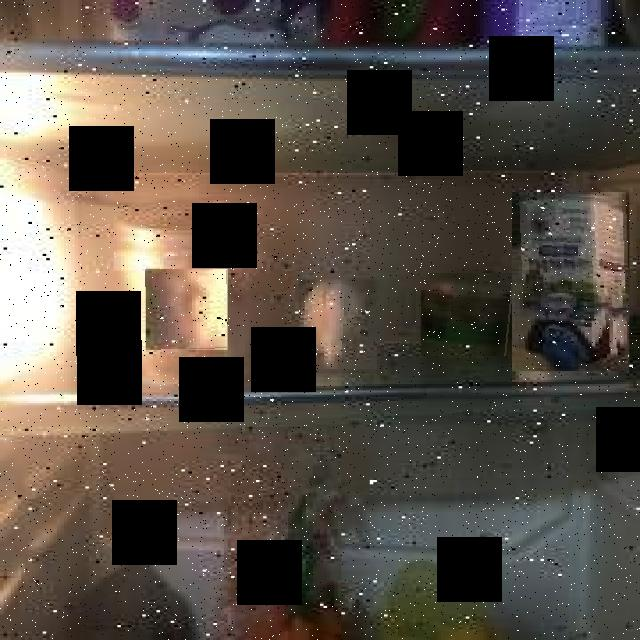garlic: (299, 280, 377, 369), (146, 270, 228, 351)
guacamole: (421, 273, 514, 356)
heavy_cream: (512, 192, 629, 371)
